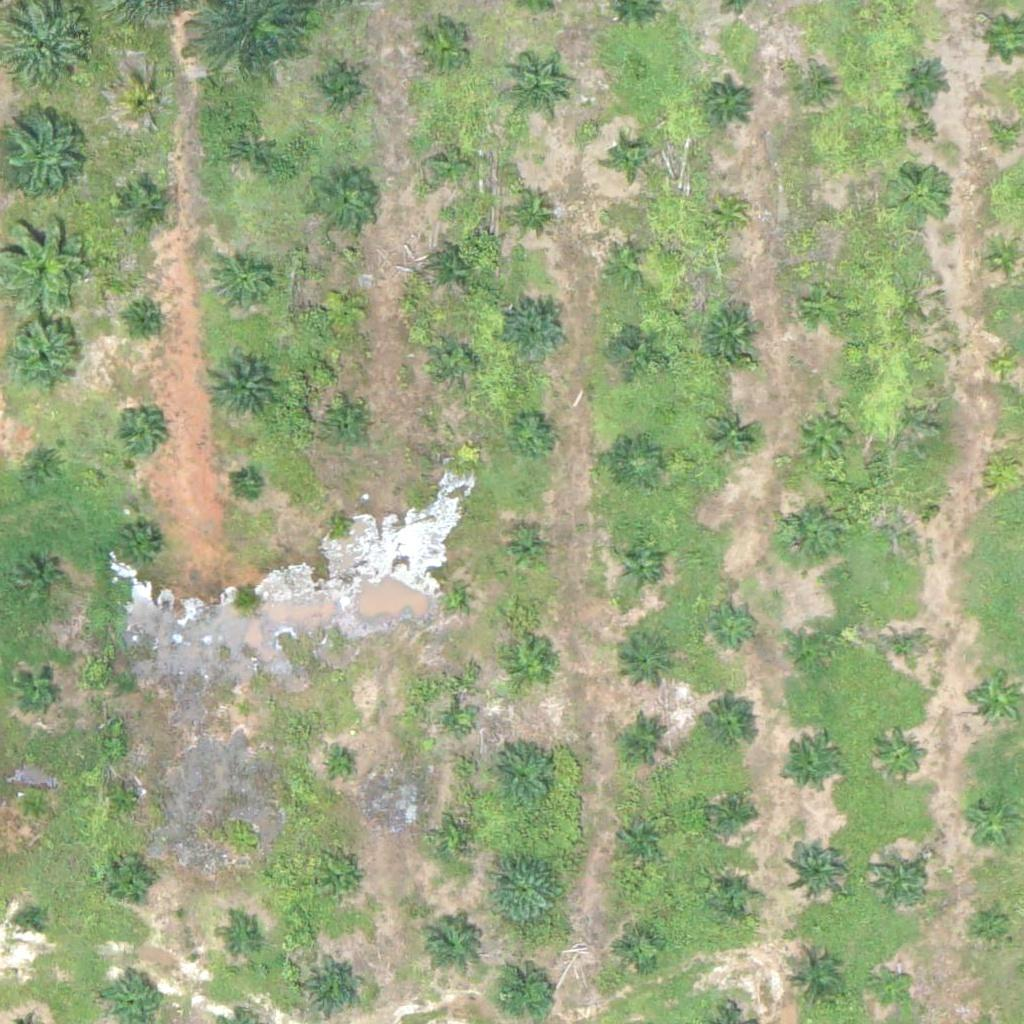Kelapa_Sawit: (5, 6, 93, 95), (484, 737, 559, 813), (488, 851, 563, 927), (205, 349, 280, 425), (417, 910, 480, 973), (959, 792, 1022, 855), (302, 956, 365, 1019), (618, 630, 681, 693), (503, 63, 566, 126), (409, 17, 472, 80), (776, 501, 839, 564), (505, 299, 568, 362), (420, 134, 483, 197), (697, 699, 760, 762), (781, 737, 843, 800), (782, 950, 844, 1013), (869, 851, 931, 914), (785, 834, 847, 897), (313, 172, 375, 235), (213, 251, 275, 314), (700, 303, 762, 366), (794, 404, 856, 467), (890, 164, 952, 227), (217, 121, 279, 184), (875, 730, 925, 781), (106, 852, 156, 903), (612, 438, 662, 489), (610, 320, 660, 371), (430, 242, 480, 293), (506, 185, 556, 236), (431, 336, 481, 387), (310, 63, 360, 114), (319, 282, 369, 333), (507, 409, 557, 460), (705, 409, 755, 460), (879, 624, 929, 675), (791, 622, 841, 673), (709, 599, 759, 650), (617, 541, 667, 592), (613, 922, 663, 972), (120, 180, 170, 230), (506, 643, 556, 693), (704, 76, 754, 126), (900, 55, 950, 105), (800, 280, 850, 330), (603, 240, 653, 290), (325, 403, 375, 453), (707, 788, 757, 838), (709, 872, 759, 922), (615, 808, 665, 858), (620, 713, 670, 763), (502, 526, 552, 576), (114, 409, 164, 459), (117, 523, 167, 573), (14, 662, 64, 712), (14, 555, 64, 605), (21, 441, 71, 491), (121, 80, 171, 130), (219, 921, 257, 959), (985, 240, 1023, 278), (983, 447, 1021, 485), (709, 194, 747, 232), (612, 139, 650, 177), (870, 970, 908, 1008), (324, 864, 361, 902), (795, 72, 832, 110), (807, 201, 844, 239), (890, 499, 927, 537), (15, 788, 53, 825), (108, 782, 145, 820), (973, 907, 1010, 944), (234, 472, 259, 498), (446, 828, 471, 854), (439, 583, 464, 608), (444, 711, 469, 736), (327, 754, 352, 779), (327, 510, 352, 535), (17, 909, 42, 934), (135, 308, 160, 333), (233, 699, 258, 724)
